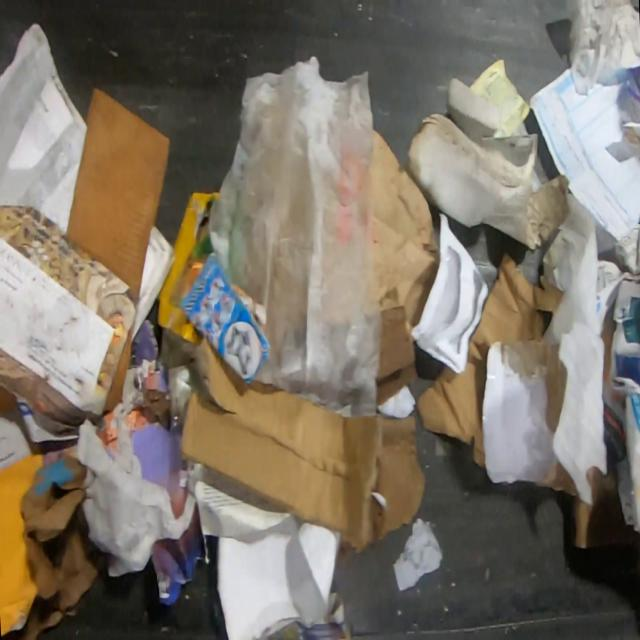cardboard: (179, 356, 381, 548), (417, 251, 564, 471), (65, 85, 172, 308), (19, 450, 106, 640), (481, 339, 582, 500), (375, 130, 439, 328), (0, 453, 43, 638), (375, 303, 419, 409), (104, 342, 133, 412)
soft_plastic: (206, 57, 381, 418), (542, 194, 607, 506), (565, 0, 639, 97)
